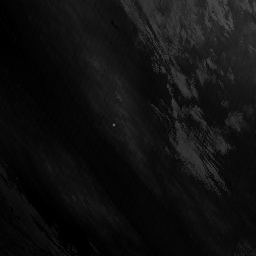Target: (111, 122, 117, 127)
